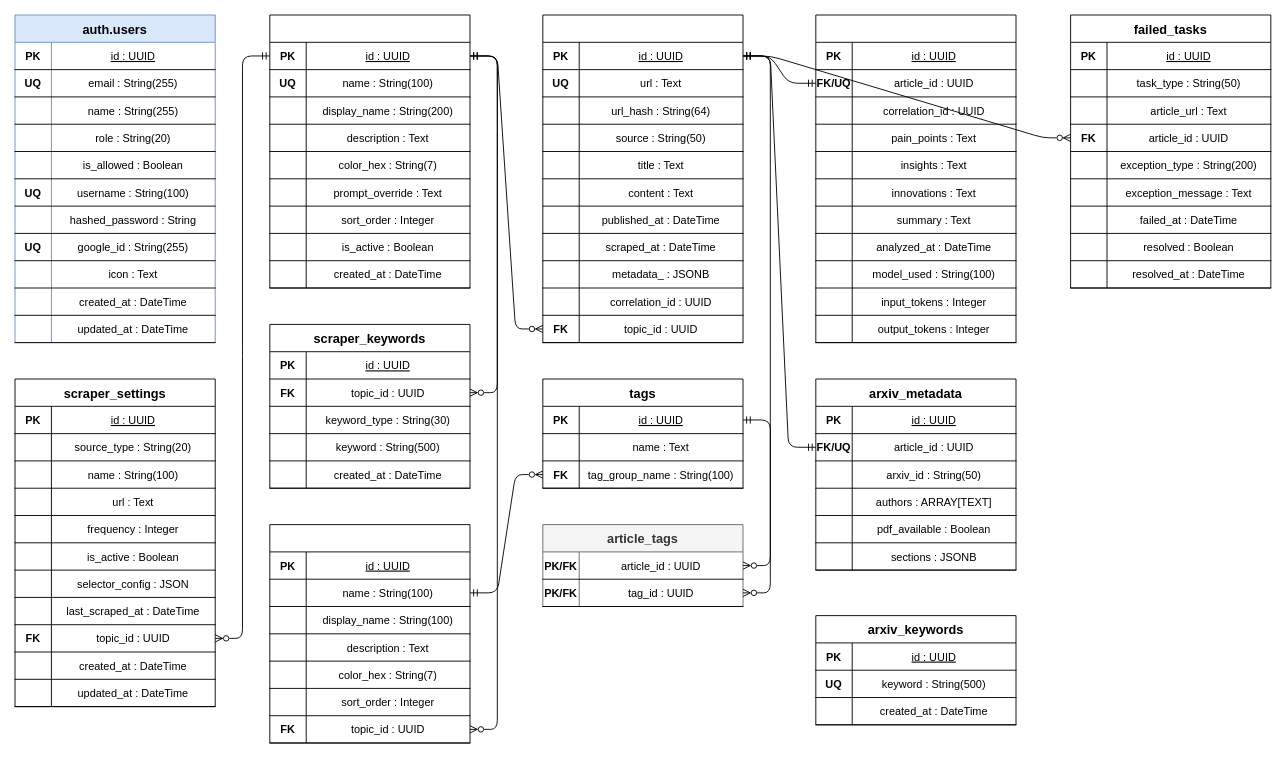
This 1286x758 diagram has some shape labels left out. The box of each missing label's shape, as (x1, y1, x2, y2) in pixels:
analyses: (815, 14, 1016, 343)
articles: (542, 14, 743, 343)
tag_group_definitions: (269, 524, 470, 743)
topics: (269, 14, 470, 288)
